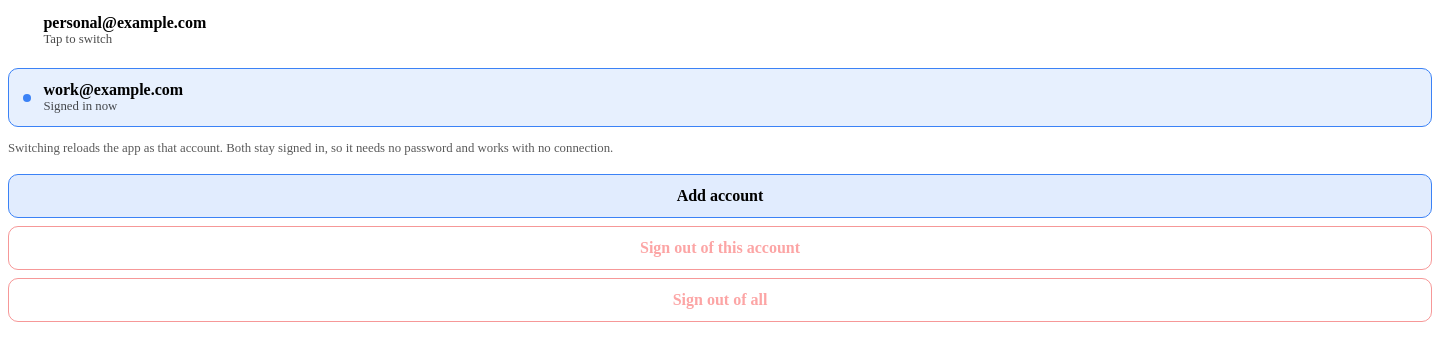
Test: a browser with two accounts › promises the OTHER account survives - the outcome that differs from a single-login sign-out
The width and height of the screenshot is (1440, 339).
Click the button "Sign out of this account". click: click(720, 248)
box: [8,226,1432,270]
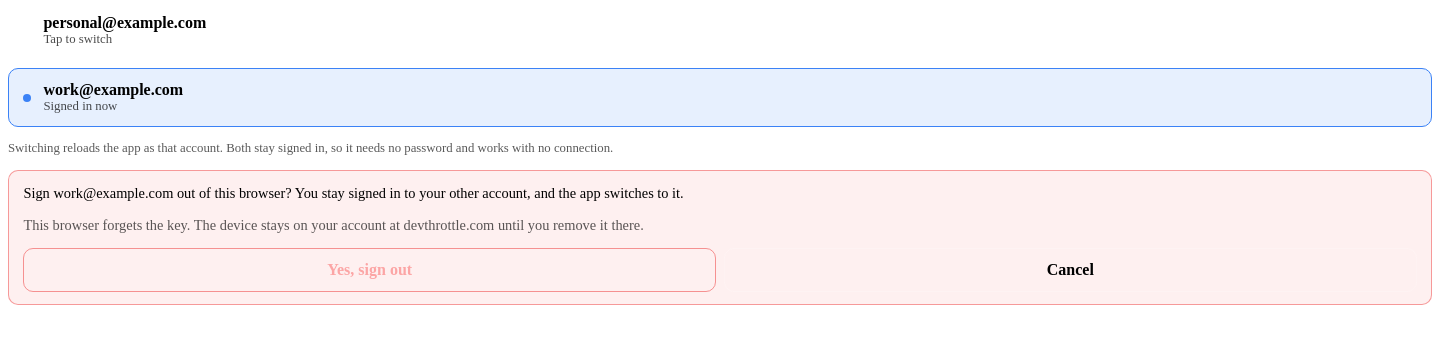
Expected: the text "You stay signed in to your other account" is shown, [23,184,684,200]
